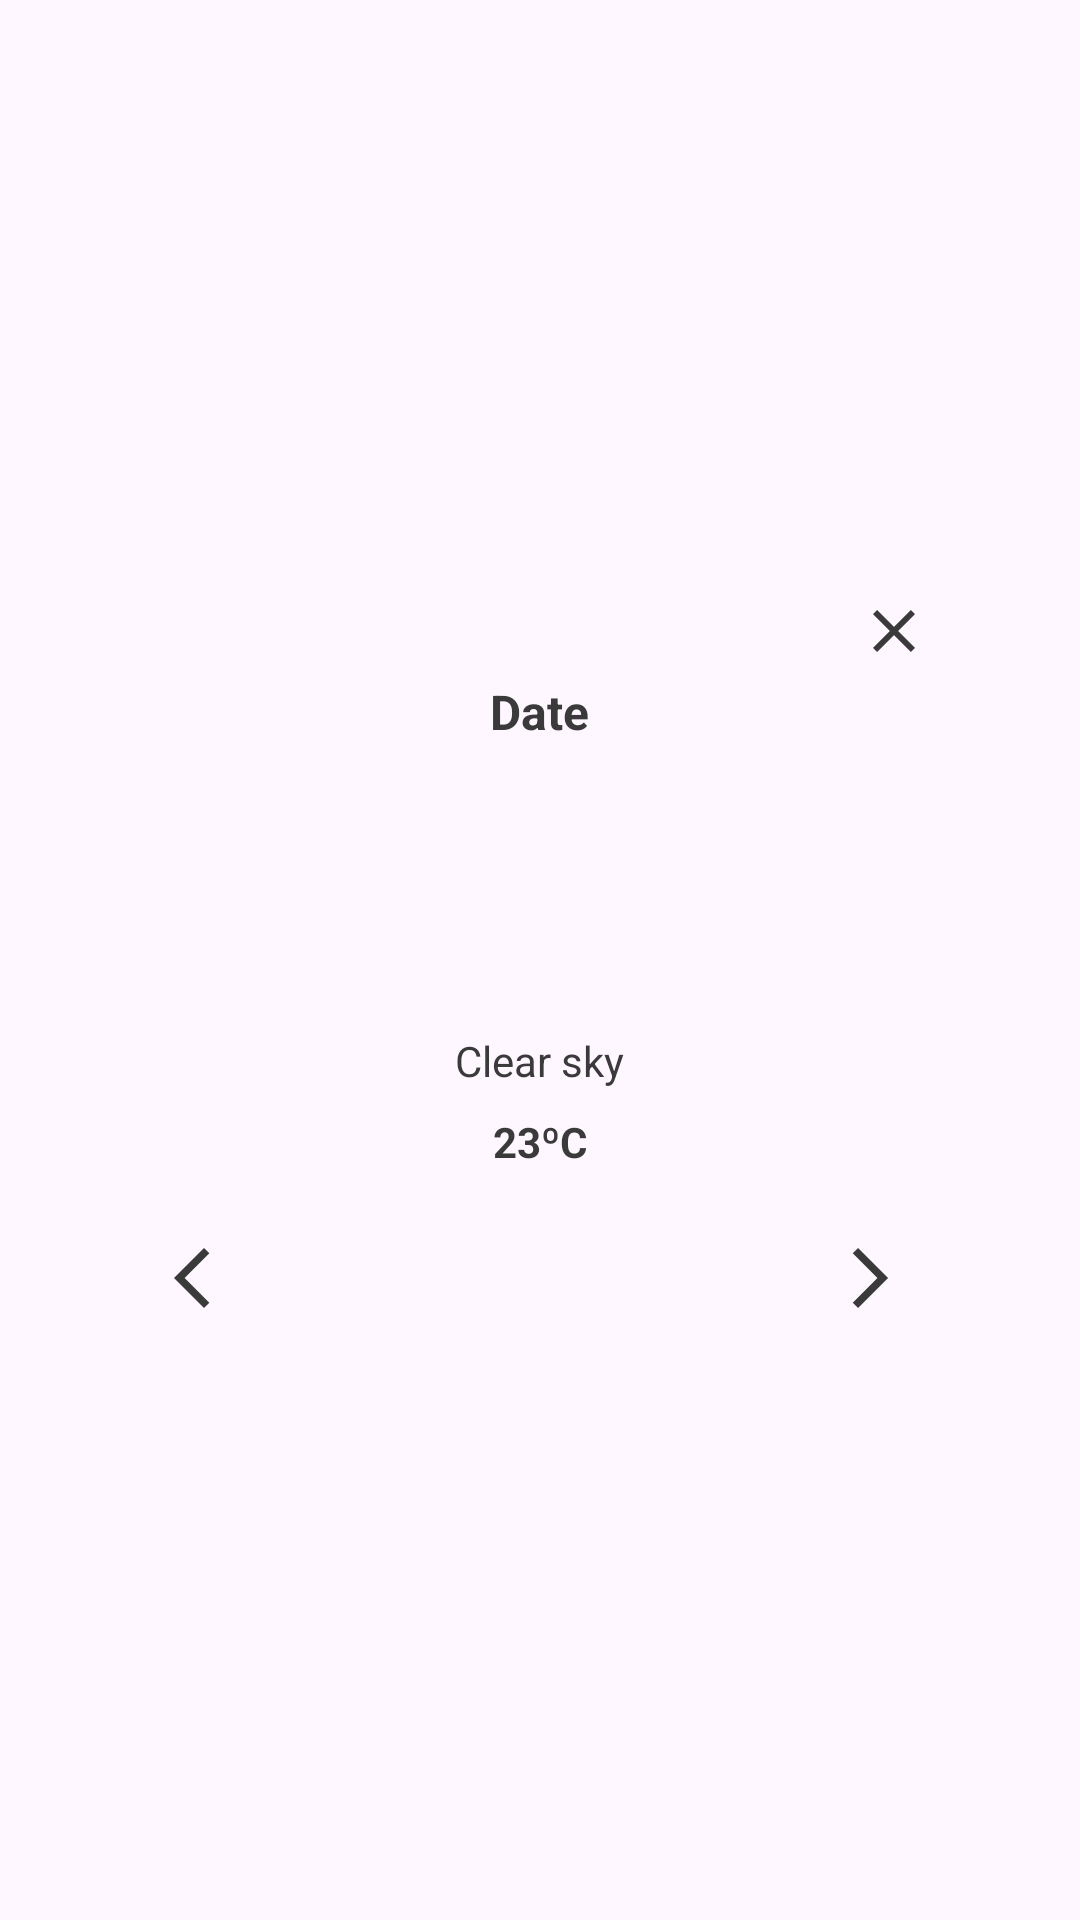

Point at icon controls on the screen. Image size 1080x1920, points as [x,y].
Close Pop-up: [894,631]
Next Day: [870,1278]
Previous Day: [191,1278]
